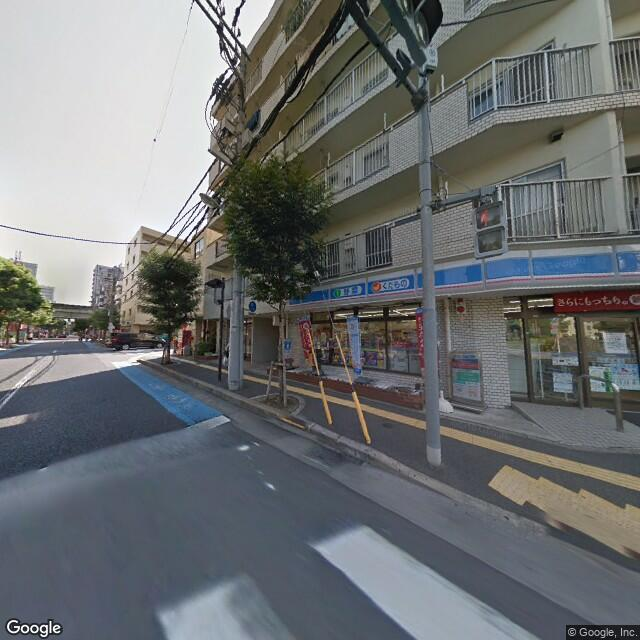lawson: (287, 240, 638, 311)
